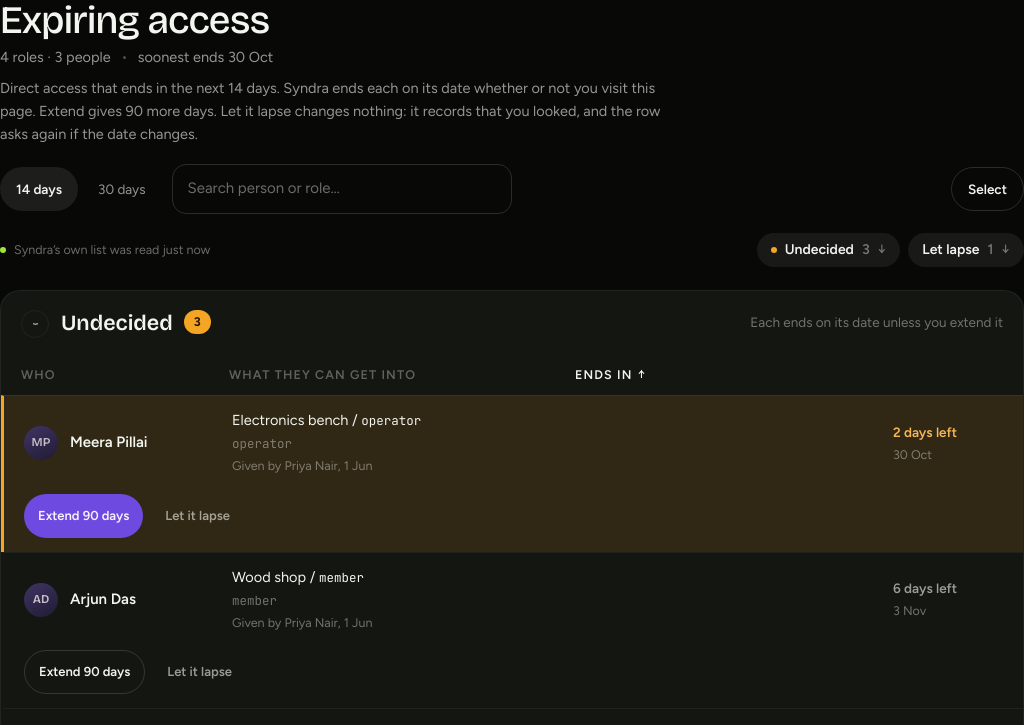
Expiring access — search › says nothing matches, and clearing is the way back
This screenshot has width=1024, height=725.
Step 1. Type "zzz" into the field named "Search expiring access by person or role" → (342, 189), box [172,164,512,214]
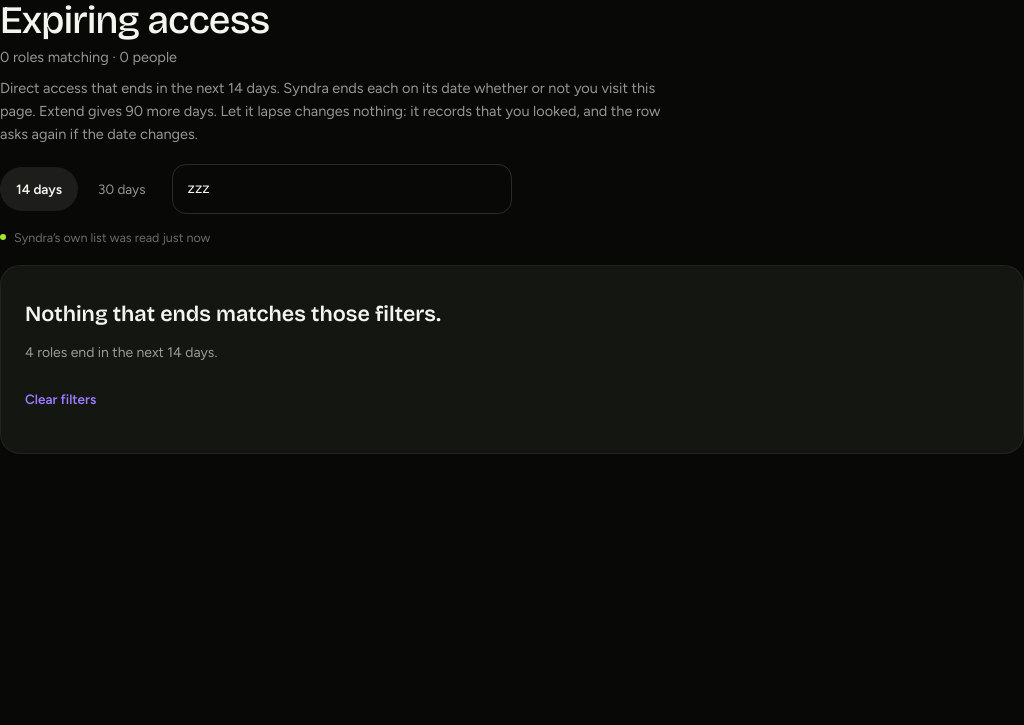
Result: the text "Nothing that ends matches those filters." is shown at [25,298,441,332]
Result: the link "Undecided" is gone
Step 2. Click the button "Clear filters" → (61, 399), box [25,377,96,421]
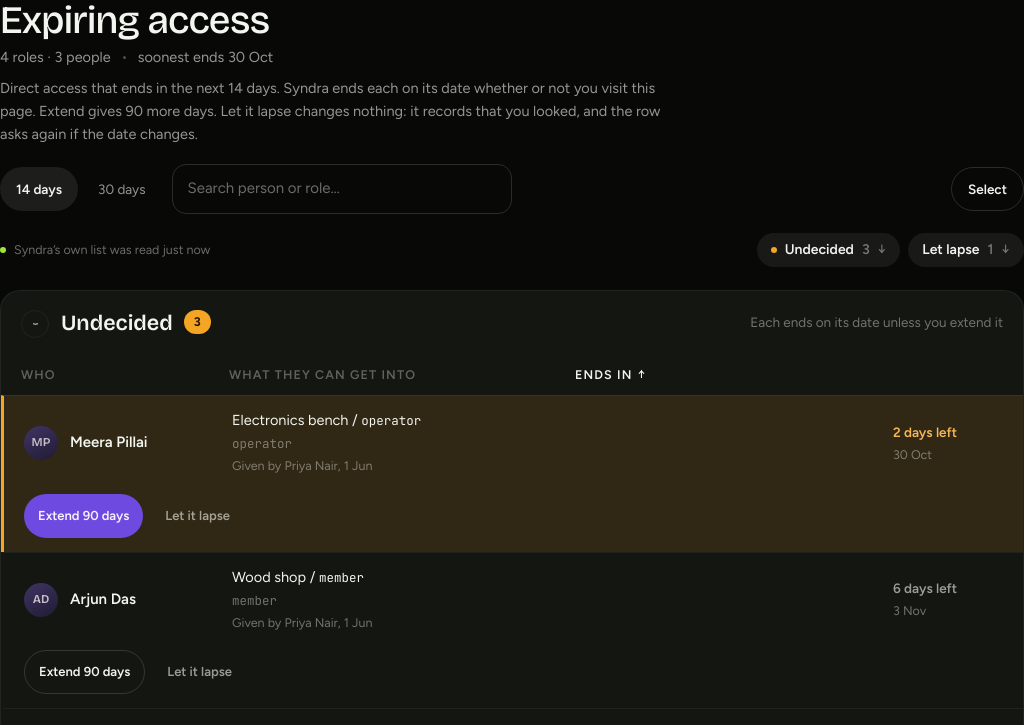
Result: the text "Meera Pillai" is shown at [70,433,148,451]
